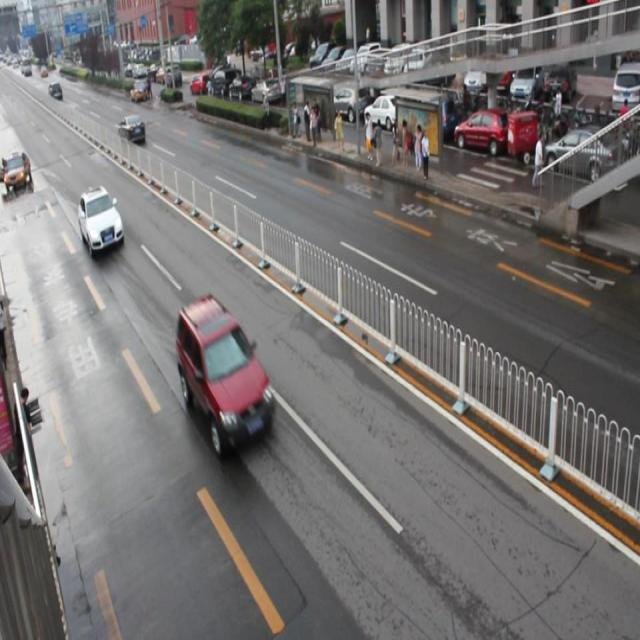car: (176, 295, 274, 455), (79, 186, 124, 253), (118, 114, 147, 144)
